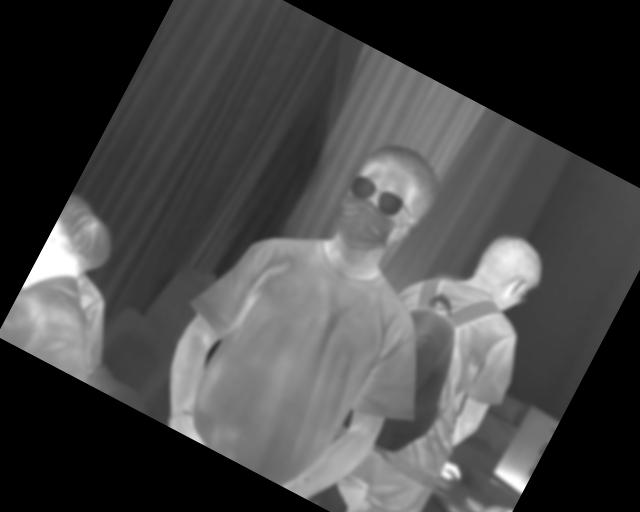face: (437, 354, 577, 503), (233, 193, 349, 317)
